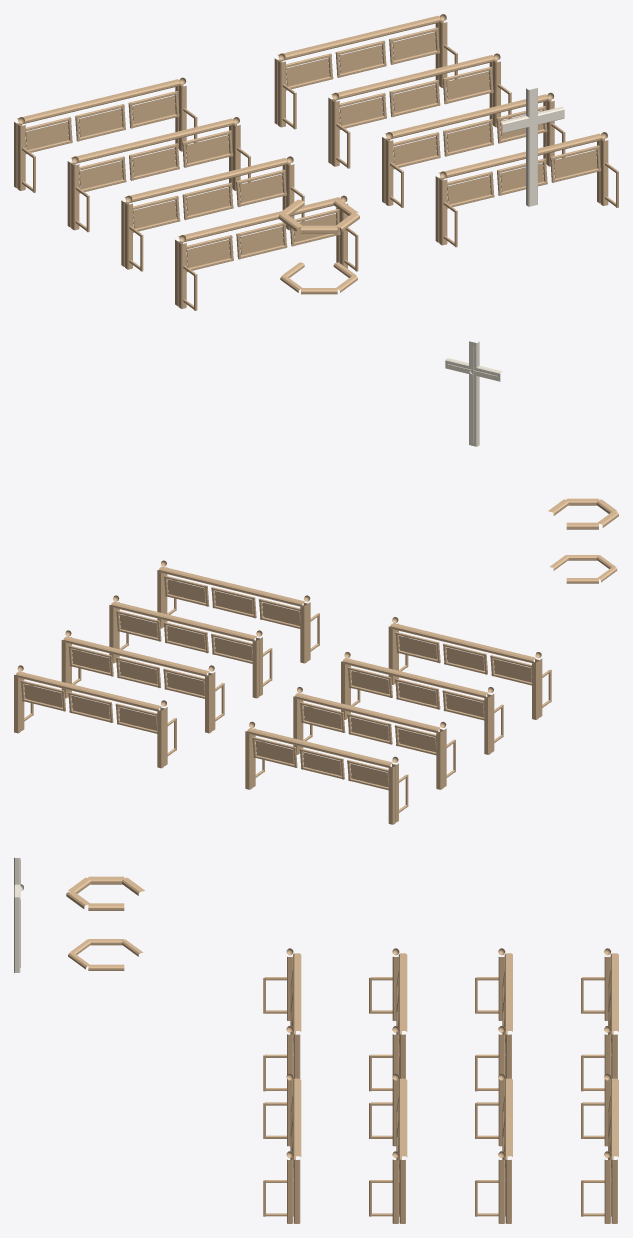
The model's file is lotprop__lot_church_nave_props_phone.glb.
3 views of the same model, one above another, from view 1: azimuth 30°, elevation 25°; view 2: azimuth 150°, elevation 25°; view 3: azimuth 270°, elevation 25° (orthographic). The views are drawn at different scales.
Visible parts, largest first — view 1: lotprop__lot_church_nave_props_phone; view 2: lotprop__lot_church_nave_props_phone; view 3: lotprop__lot_church_nave_props_phone.
Part boxes in pixels (x1=…): lotprop__lot_church_nave_props_phone: x1=14, y1=14, x2=618, y2=310; lotprop__lot_church_nave_props_phone: x1=14, y1=341, x2=618, y2=824; lotprop__lot_church_nave_props_phone: x1=14, y1=857, x2=618, y2=1223.
Size of the model in its own units: 6.9 by 4.15 by 8.57.
